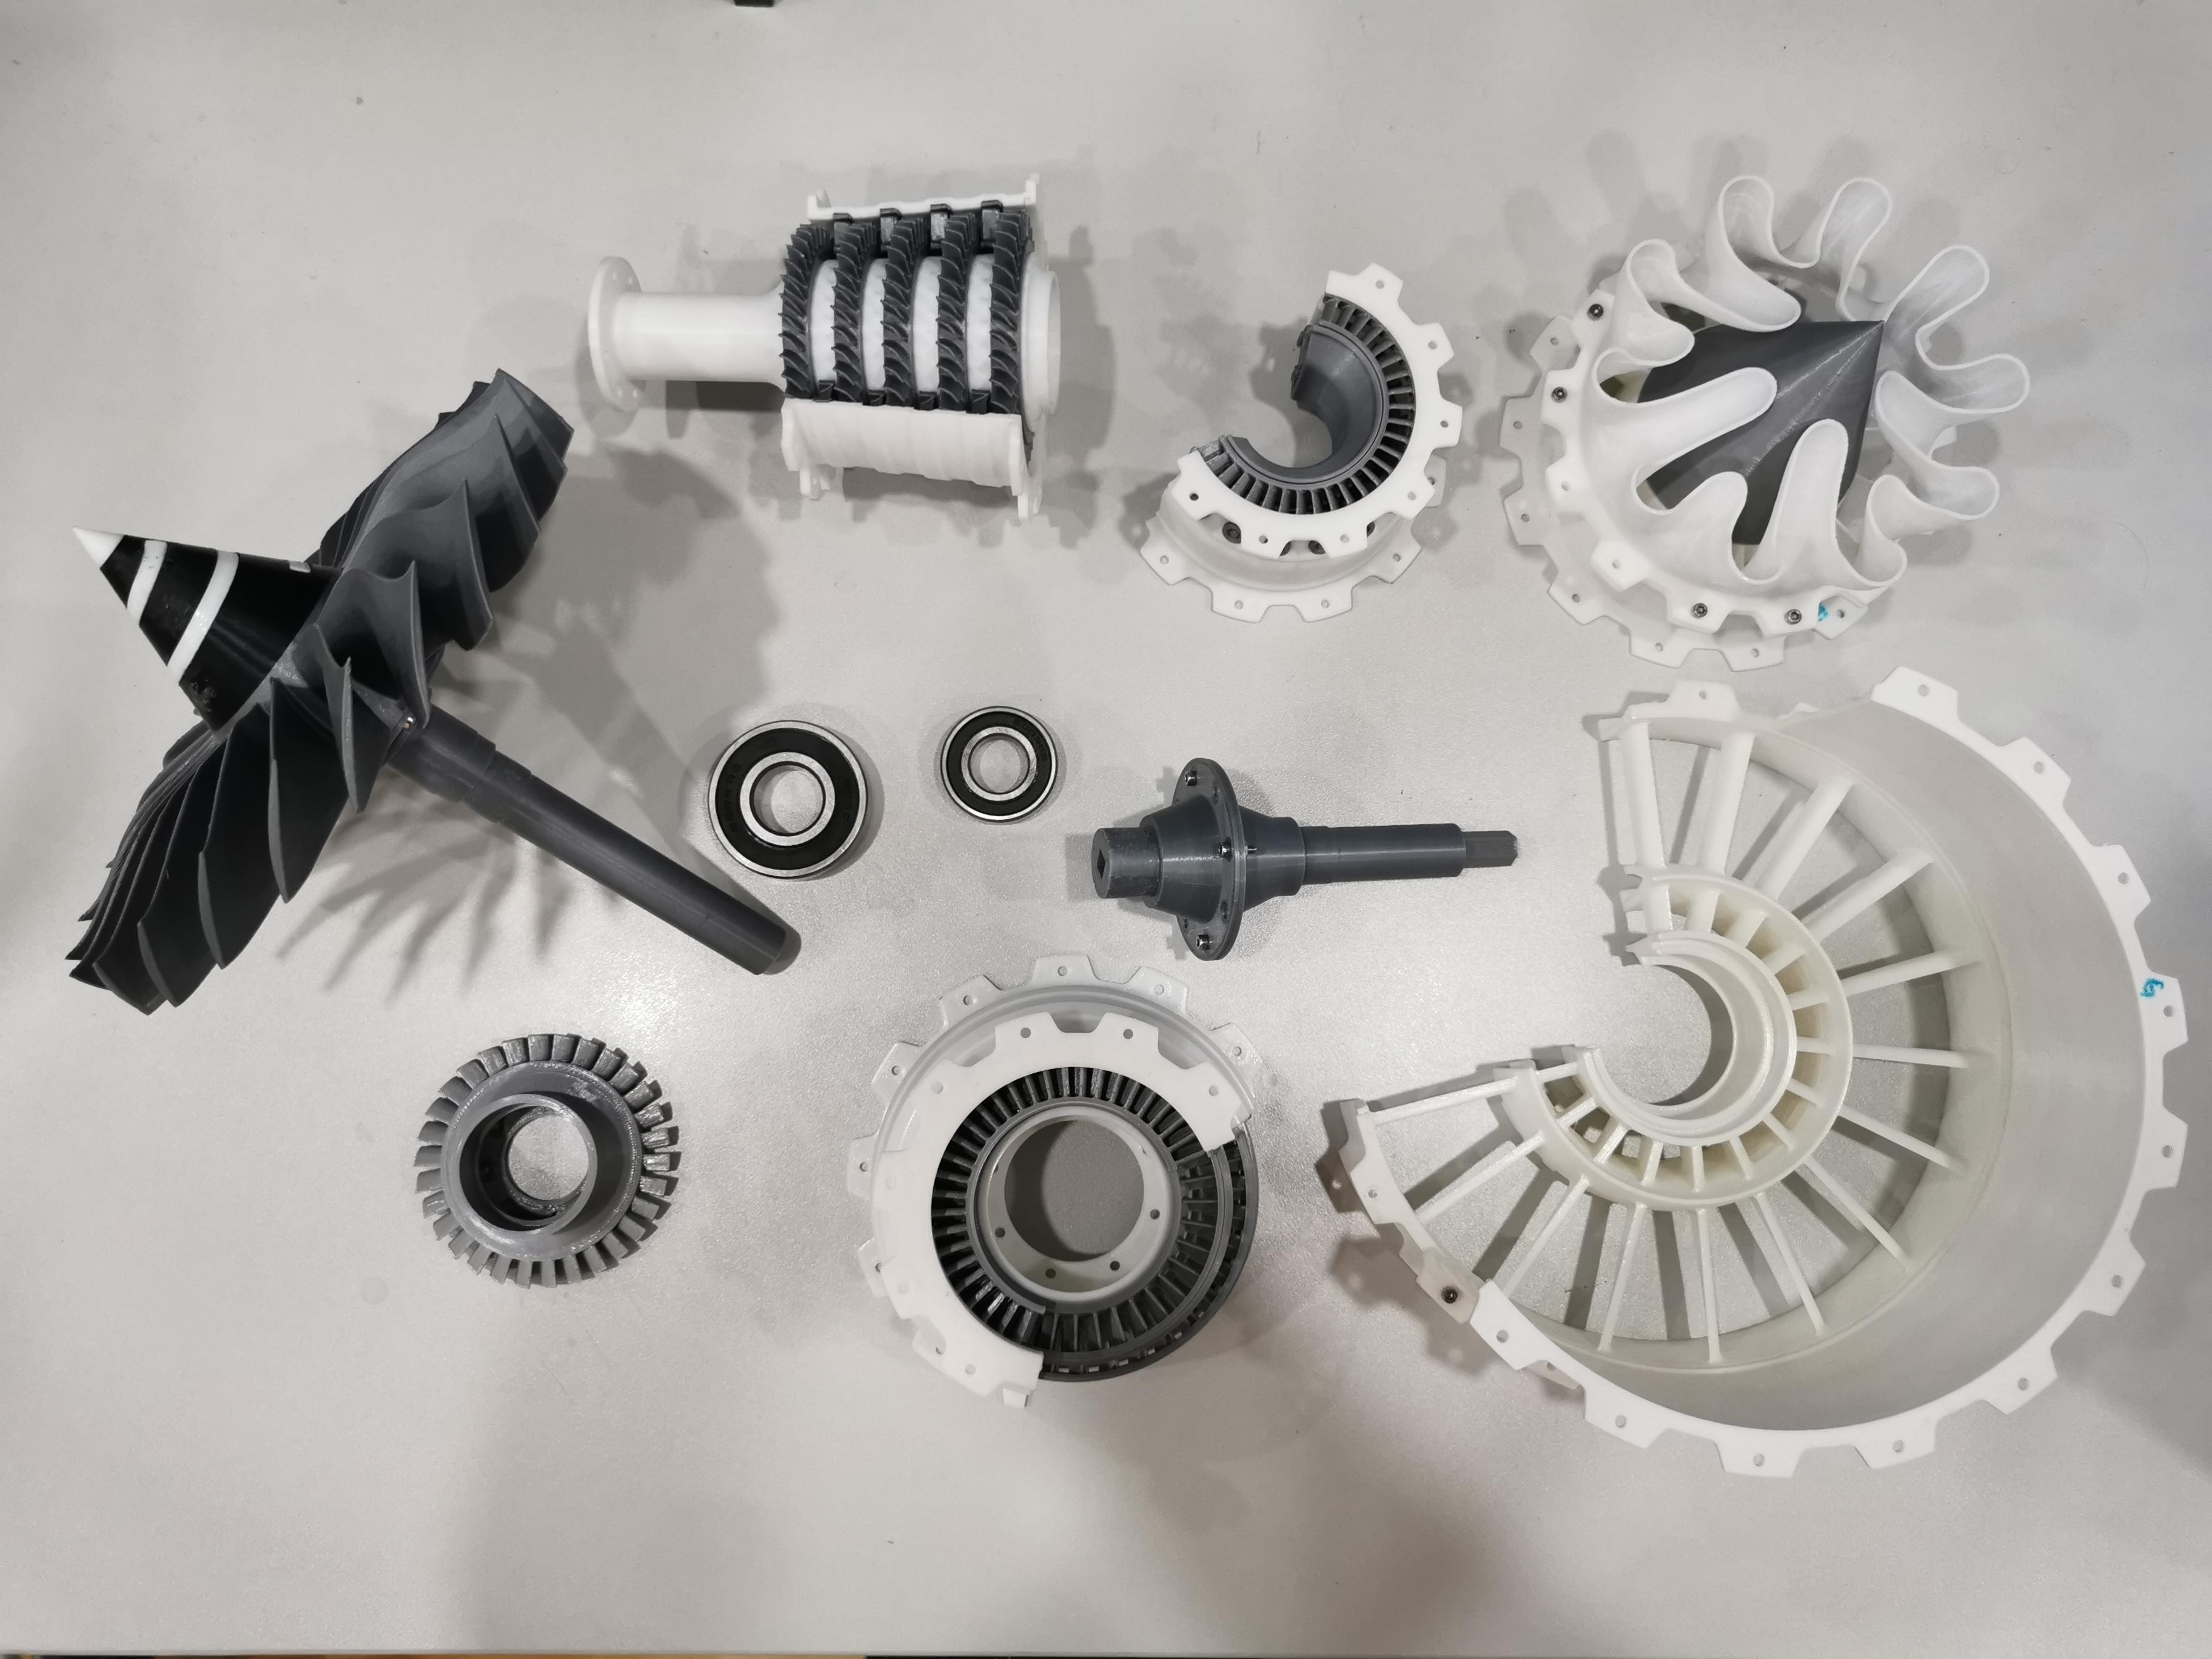Bearing-6003: (925, 688, 1075, 840)
Bearing-6204: (691, 708, 876, 904)
Combustion Section: (1118, 249, 1479, 633)
Fan Casing and Support: (1317, 666, 2202, 1488)
Fan and Low Pressure Shaft: (31, 354, 806, 1018)
HPT Section: (404, 1007, 698, 1310)
High Pressure Spool: (573, 162, 1085, 545)
LPT Section: (838, 950, 1282, 1429)
Low Pressure Spool: (1082, 755, 1529, 964)
Nozzle Section: (1489, 160, 2047, 680)
